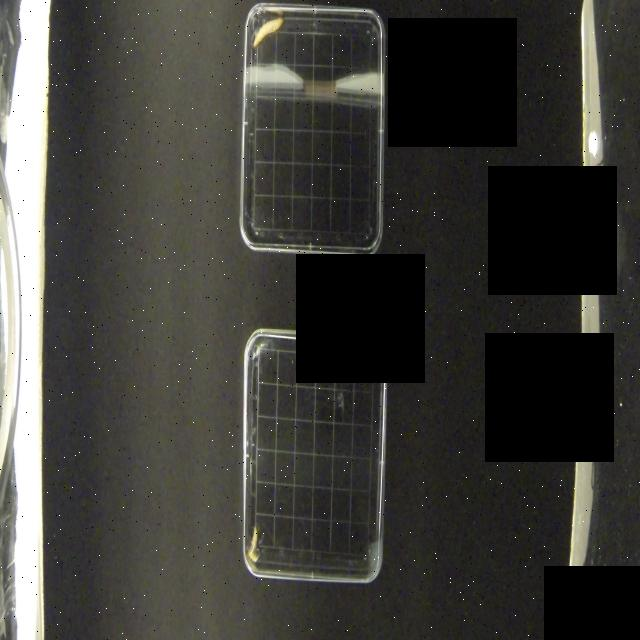larva: (252, 16, 284, 48), (248, 528, 260, 564)
